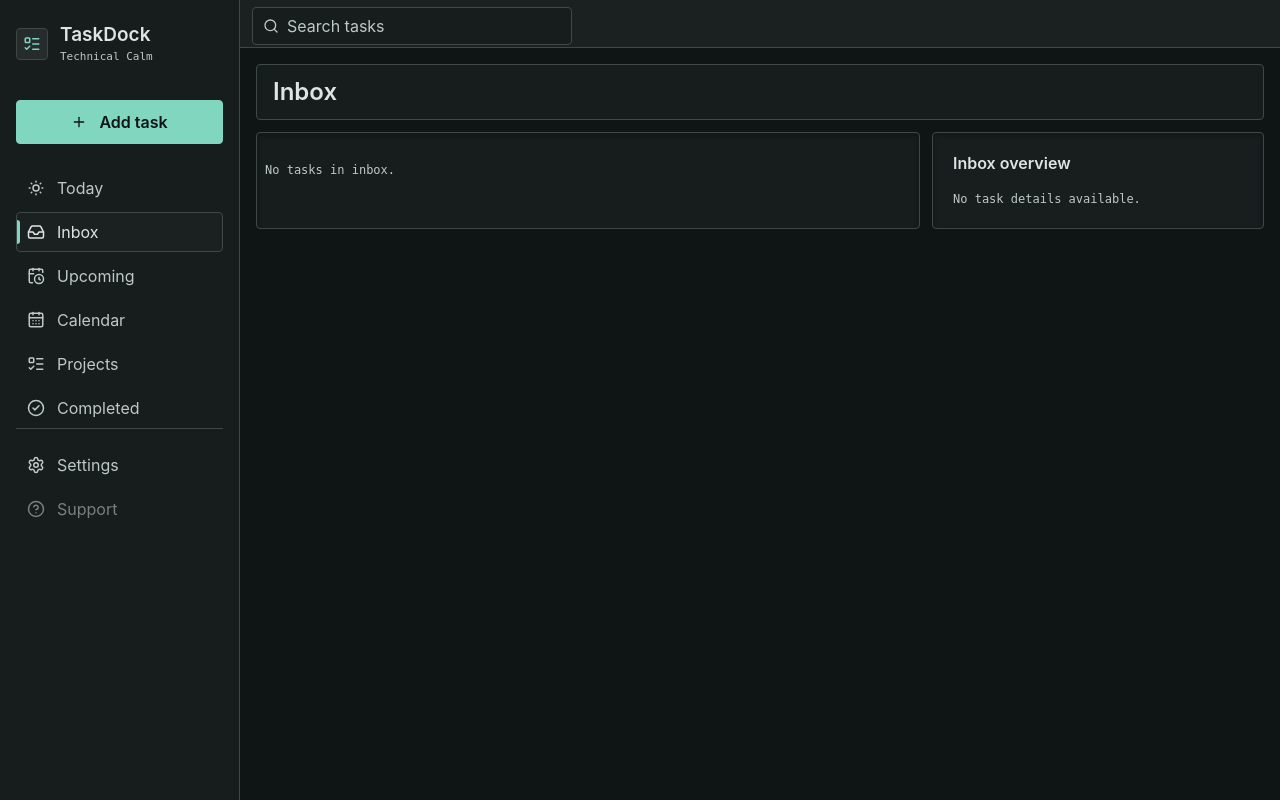
Test case: reloads the active Today view after task mutations and ignores an older failure
This screenshot has width=1280, height=800.
Expected: the text "No tasks in inbox." is shown, [265, 163, 395, 177]
Click the button "Today" at [120, 188], box [16, 168, 223, 208]
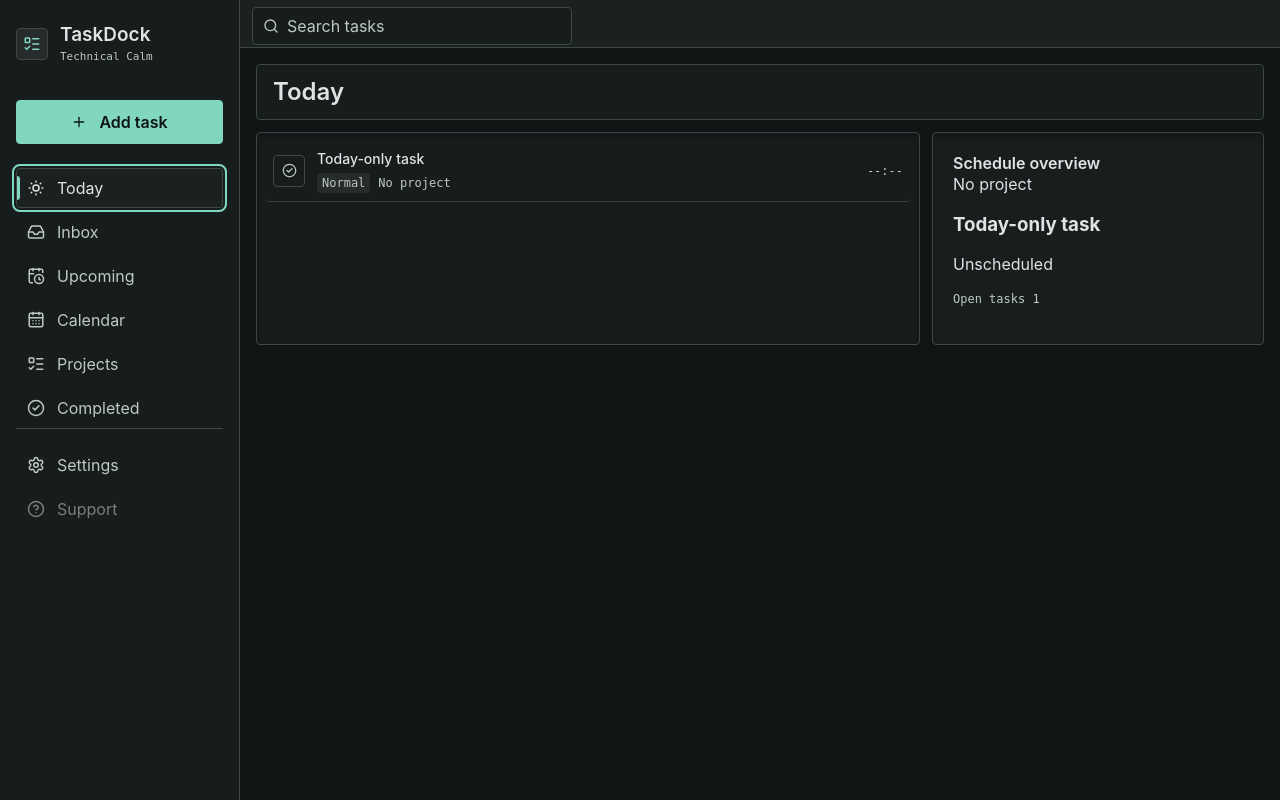
Now the message "No tasks in inbox." is gone
Now the text "Today-only task" is shown, box [317, 149, 424, 169]
